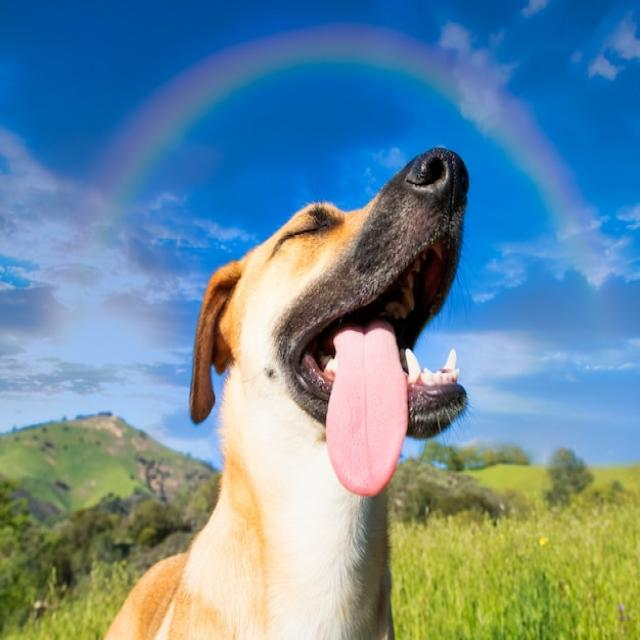Dog: (104, 144, 468, 640)
